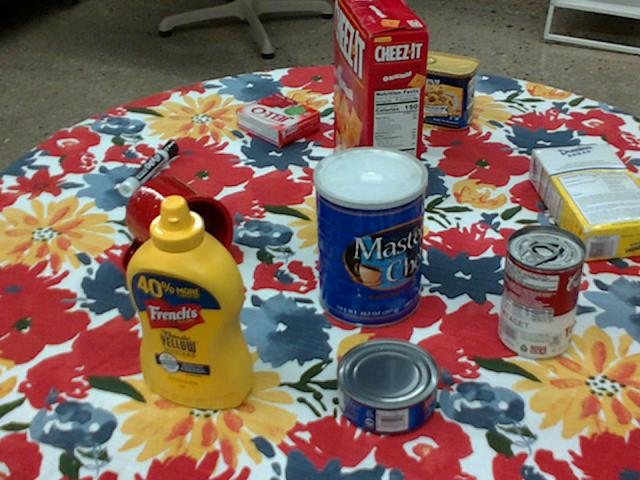cracker_box: (335, 0, 428, 215)
gelatin_box: (234, 93, 319, 147)
large_marker: (117, 139, 177, 196)
master_chef_can: (312, 146, 426, 329)
mug: (121, 176, 233, 282)
mustard_bottle: (125, 196, 254, 408)
potted_meat_can: (399, 48, 479, 128)
sugar_box: (529, 142, 639, 262)
tomato_soup_can: (499, 224, 585, 359)
tuna_fish_can: (333, 339, 436, 435)
